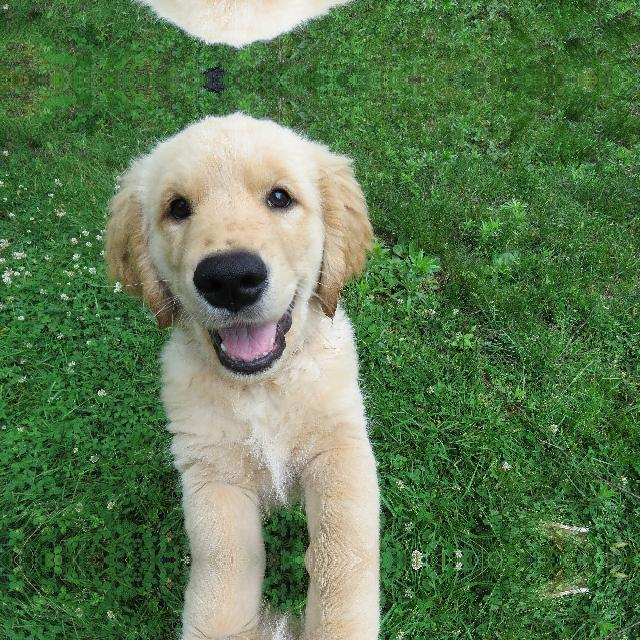dog: (103, 98, 424, 560), (103, 560, 424, 640), (103, 0, 424, 62)
